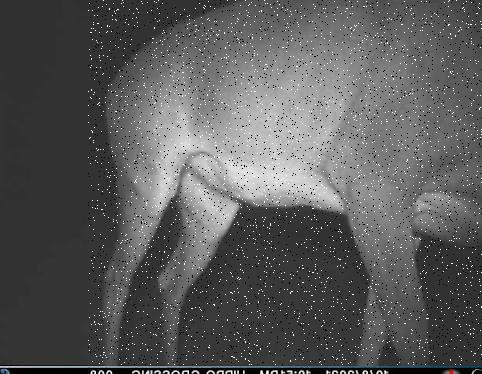Deer: (88, 0, 482, 365)
